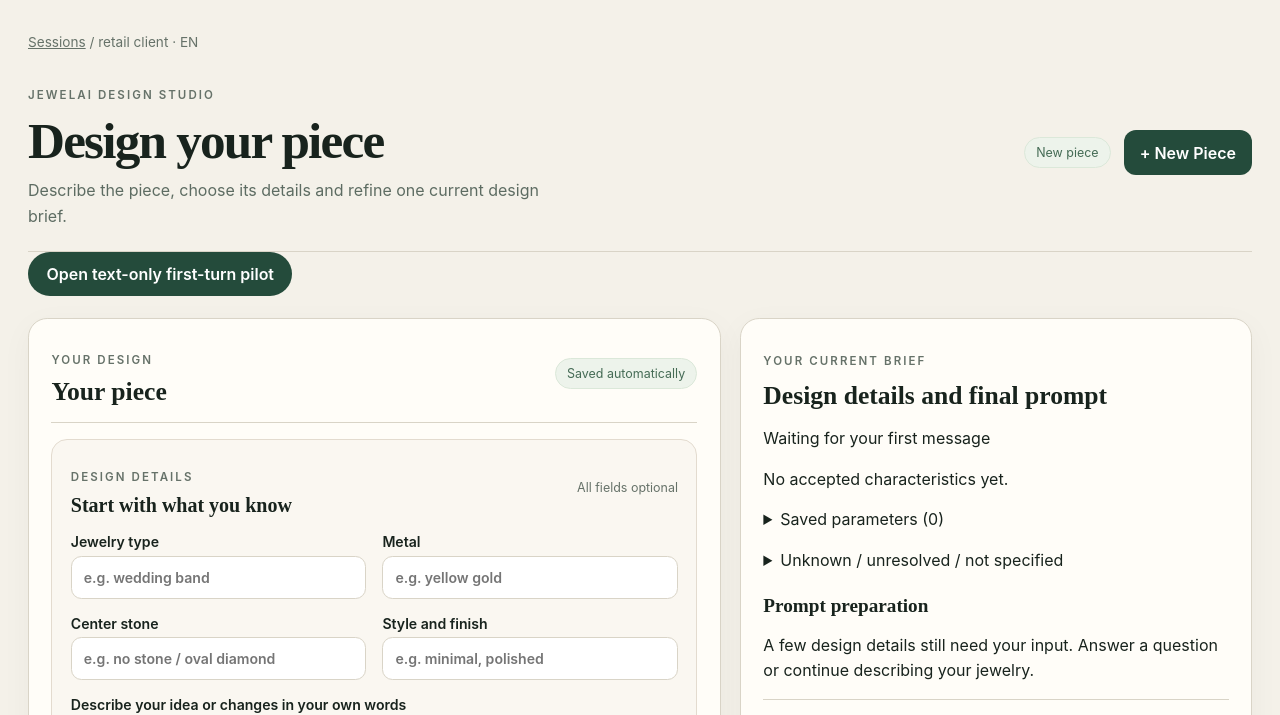
Test case: isolated first-turn pilot › keeps input and prevents duplicate submission after uncertain transport
The width and height of the screenshot is (1280, 715).
Click the button "Open text-only first-turn pilot" at (160, 274), box [28, 252, 292, 296]
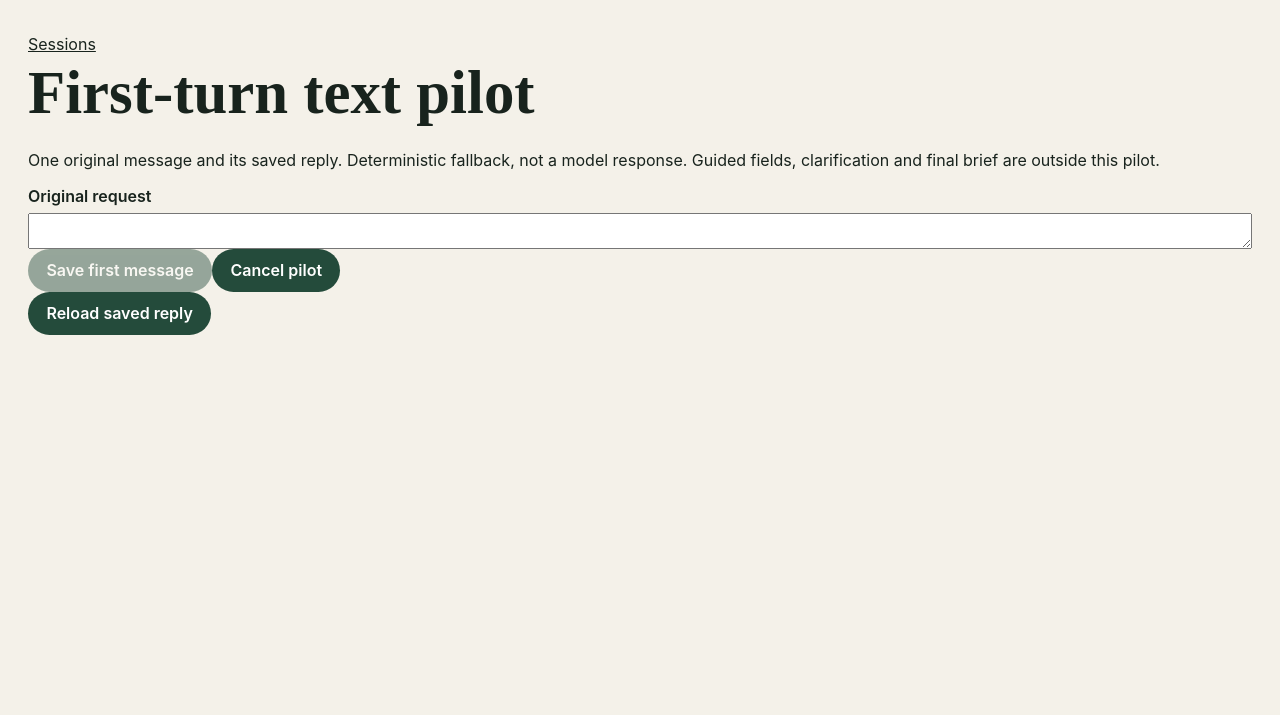
Type "I want earrings" into the text box at (640, 231), box [28, 213, 1252, 249]
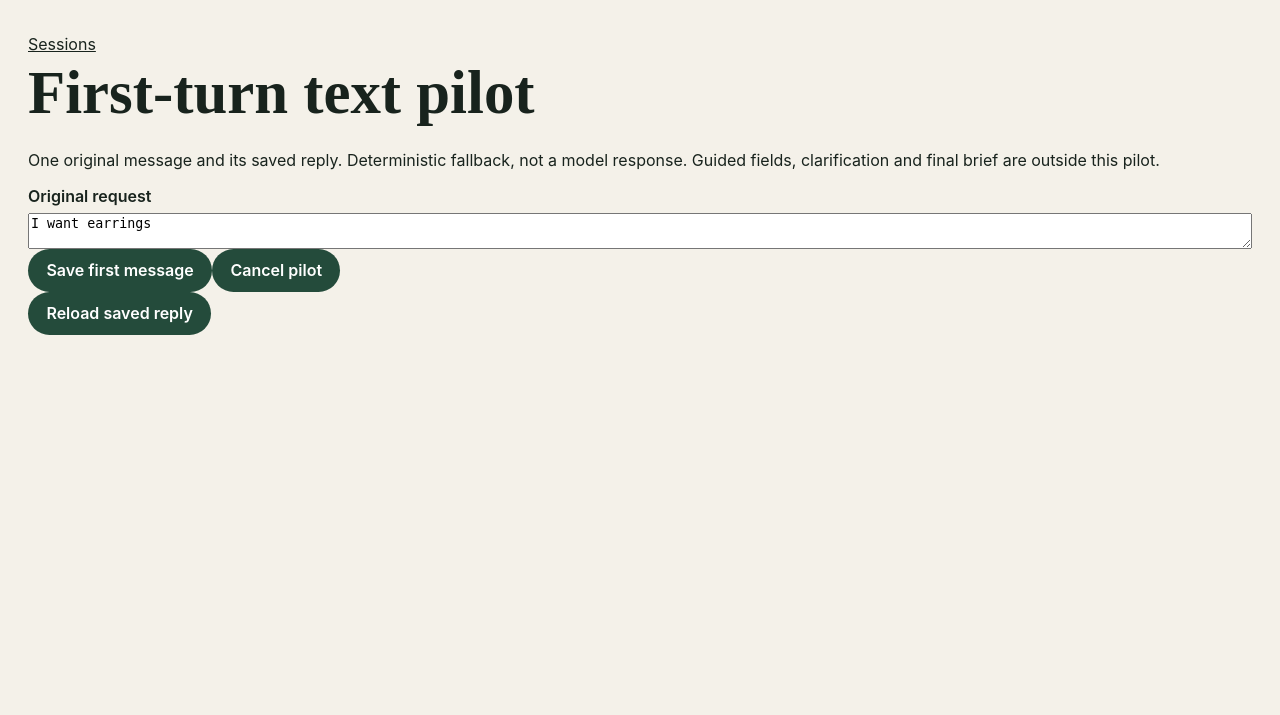
Click the button "Save first message" at (120, 270), box [28, 249, 212, 292]
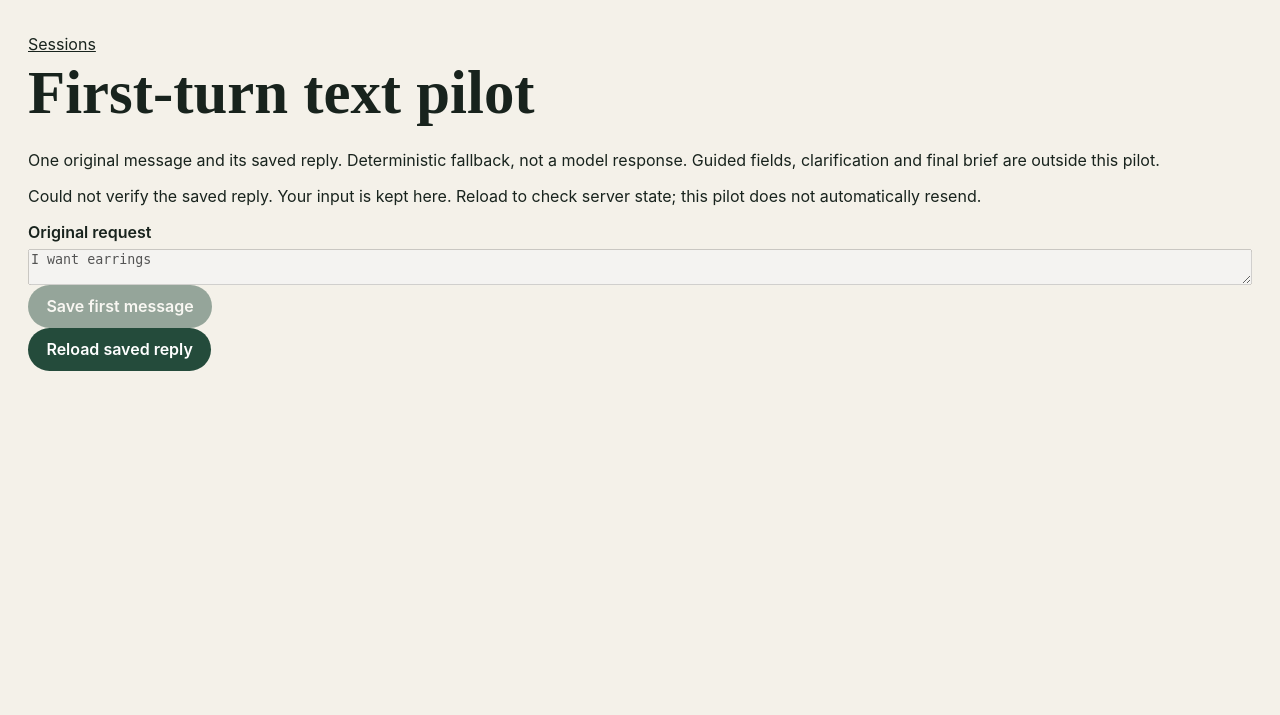
Expected: the button "Reload saved reply" is enabled, [28, 328, 211, 371]
Expected: the message is shown, [28, 186, 981, 206]
Expected: the button "Save first message" is disabled, [28, 285, 212, 328]
